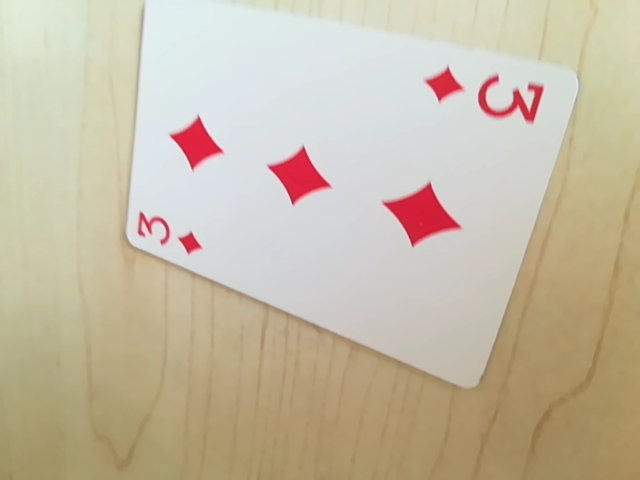fk 3: (419, 63, 547, 125), (132, 203, 207, 261)
